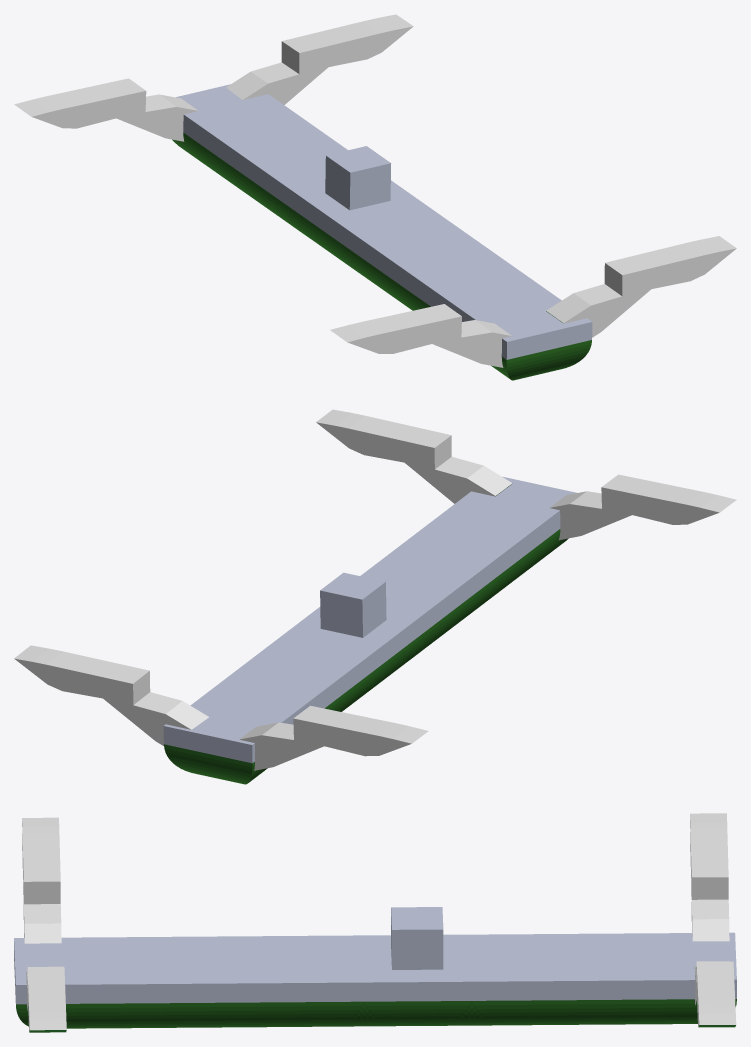
Rendered from skywalk_new.fbx.
The picture shows the model from 3 angles, top to bottom: view 1: azimuth 30°, elevation 25°; view 2: azimuth 150°, elevation 25°; view 3: azimuth 270°, elevation 25°; orthographic projection. The views are drawn at different scales.
Visible parts, largest first — view 1: Skywalk; view 2: Skywalk; view 3: Skywalk.
Part boxes in pixels (box(x1,y1,x2,y2)): Skywalk: box(14, 14, 736, 380); Skywalk: box(14, 409, 736, 784); Skywalk: box(14, 813, 736, 1032).
Size of the model in its own units: 9.29 by 2.06 by 13.45.
